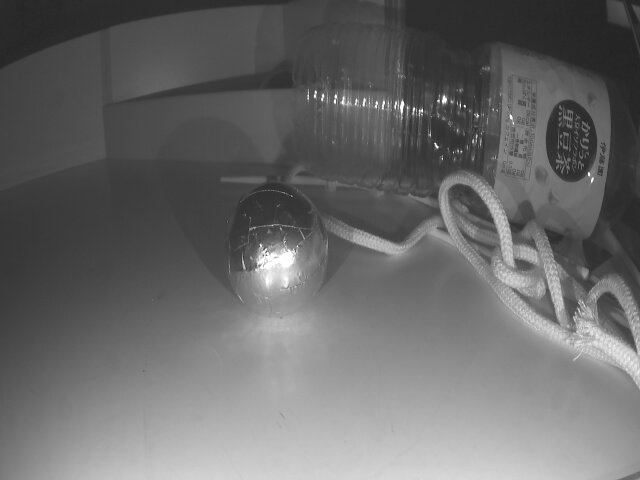Live: (221, 178, 327, 314)
Point: (104, 76, 301, 171)
